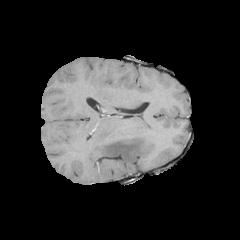glioma: (97, 114, 151, 169)
